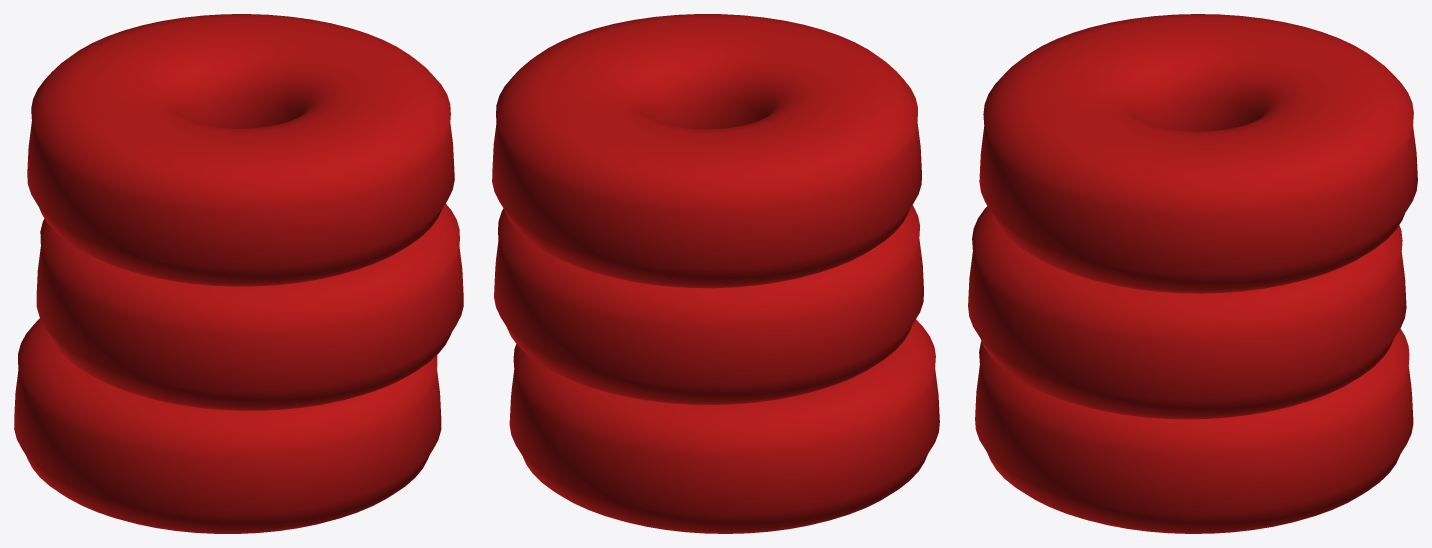
Rendered from TireStack_Single.obj.
The picture shows the model from 3 angles, left to right: view 1: azimuth 30°, elevation 25°; view 2: azimuth 150°, elevation 25°; view 3: azimuth 270°, elevation 25°; orthographic projection. The views are drawn at different scales.
Visible parts, largest first — view 1: Stack_Red; view 2: Stack_Red; view 3: Stack_Red.
Boxes of the visible parts, x1,y1,x2,y2 form: Stack_Red: (14, 14, 463, 533); Stack_Red: (492, 14, 939, 533); Stack_Red: (968, 14, 1417, 533).
Bounding box in the file's own units: 0.7298 × 0.6534 × 0.7123.
